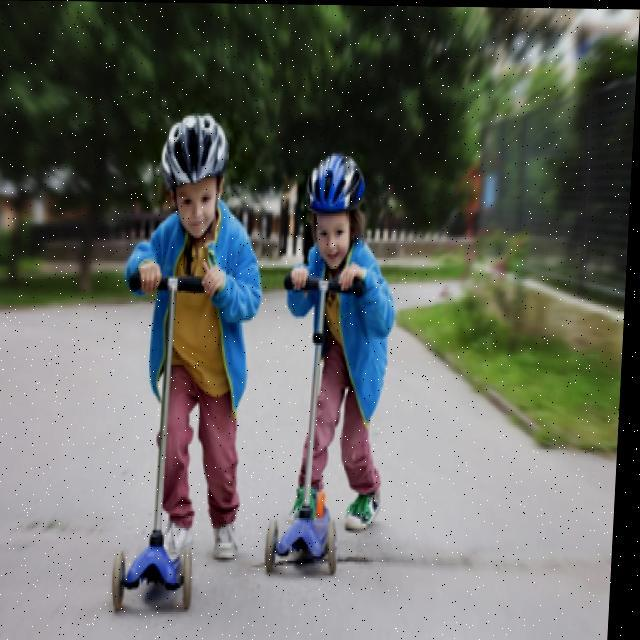With Helmet: (156, 103, 231, 244), (296, 147, 372, 270)
